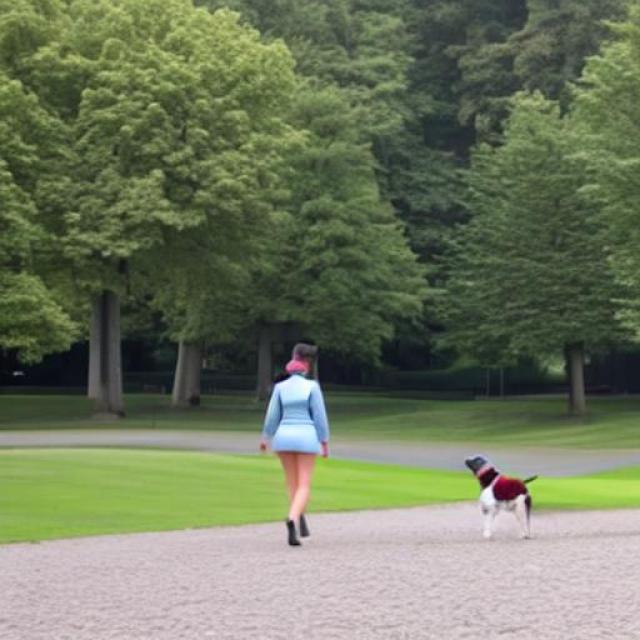Unleashed_Dog: (280, 423, 538, 541)
